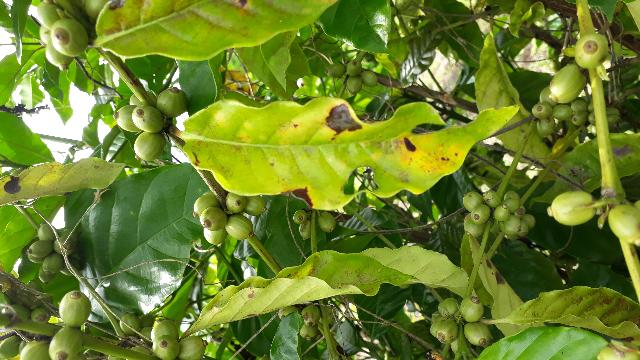rust_level_3: (172, 92, 525, 213)
